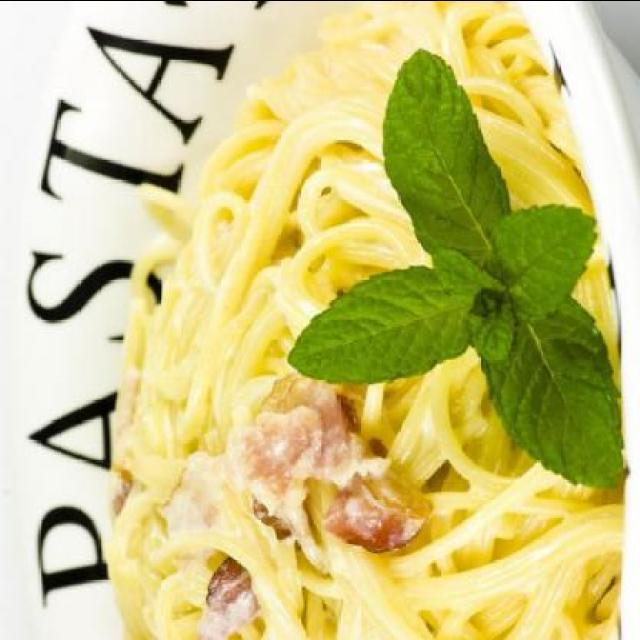Pasta with carbonara sauce: (134, 7, 616, 638)
